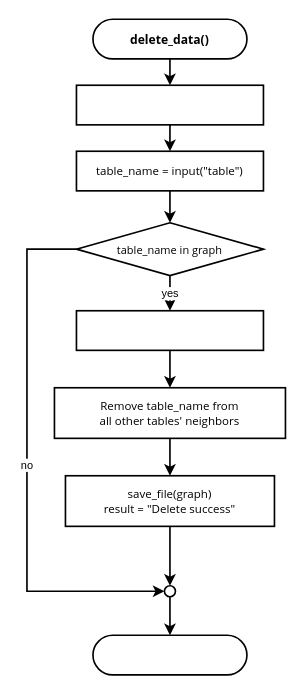
Image size: 306x695. Some labels were removed from this diagram. The centre of each missing label's shape, as x and y in pixels:
del graph[table_name]: (169,330)
result = "Table not found": (169,104)
return result: (169,654)
